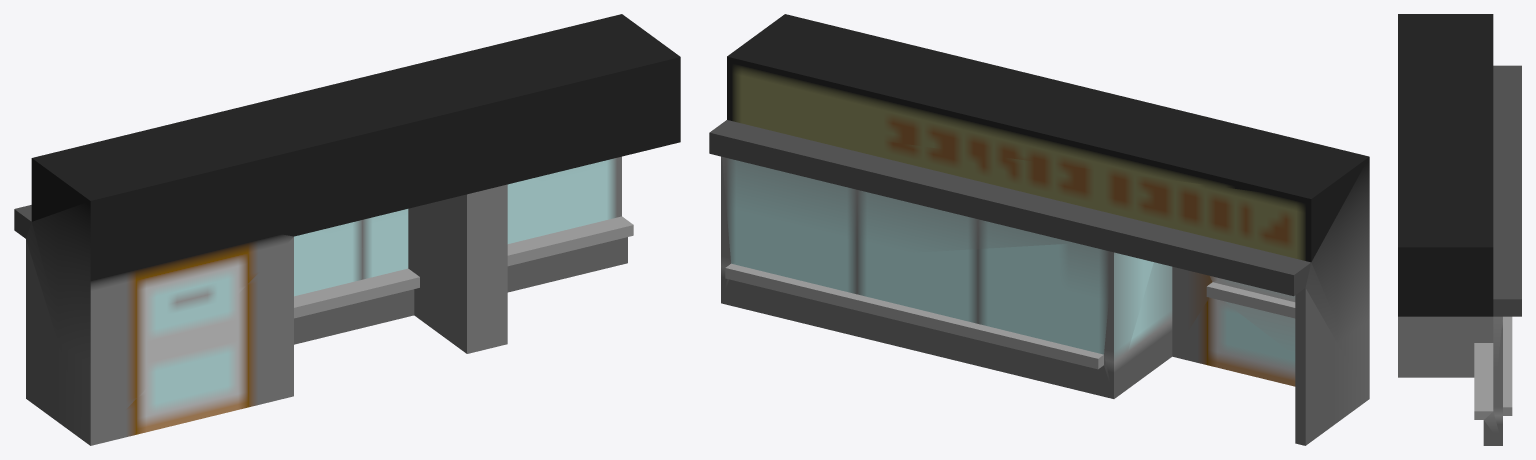
File: obj_store11.dae
3 views of the same model, side by side, from view 1: azimuth 30°, elevation 25°; view 2: azimuth 150°, elevation 25°; view 3: azimuth 270°, elevation 25° (orthographic). The views are drawn at different scales.
Parts seen in each view (by area): view 1: obj_store11; view 2: obj_store11; view 3: obj_store11.
Part boxes in pixels (bbox=[...]): obj_store11: bbox=[14, 14, 680, 445]; obj_store11: bbox=[709, 14, 1369, 445]; obj_store11: bbox=[1398, 14, 1521, 445].
Size of the model in its own units: 5.8 by 1.3 by 2.3.
1 material, 1 textured.
